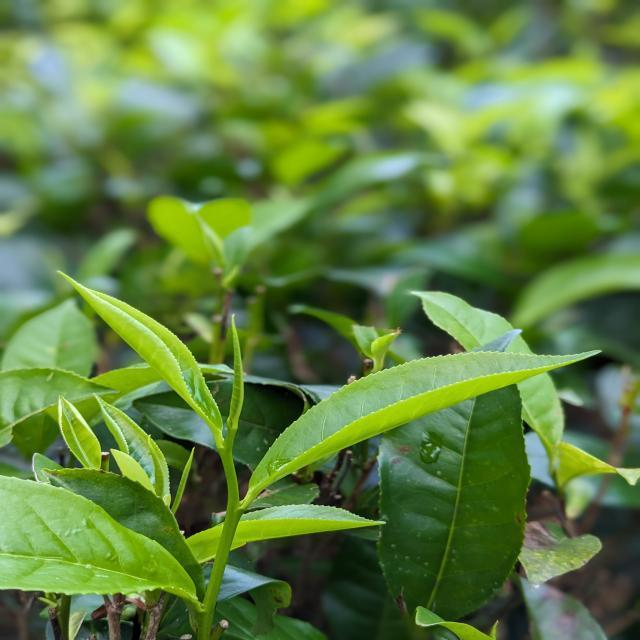Stem: (229, 501, 242, 516)
